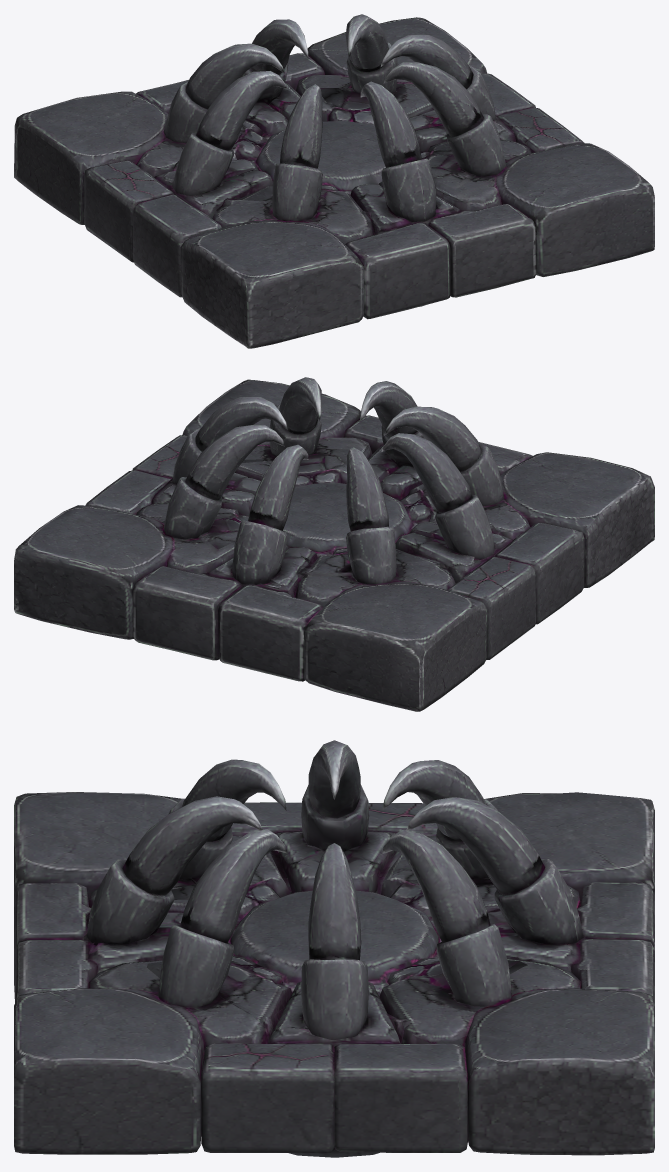
The model's file is snare_sprung.glb.
3 renders of one model, top to bottom at view 1: azimuth 30°, elevation 25°; view 2: azimuth 150°, elevation 25°; view 3: azimuth 270°, elevation 25°, orthographic. The views are drawn at different scales.
Bounding box in the file's own units: 1 × 0.46 × 1.
1 material, 1 textured.
